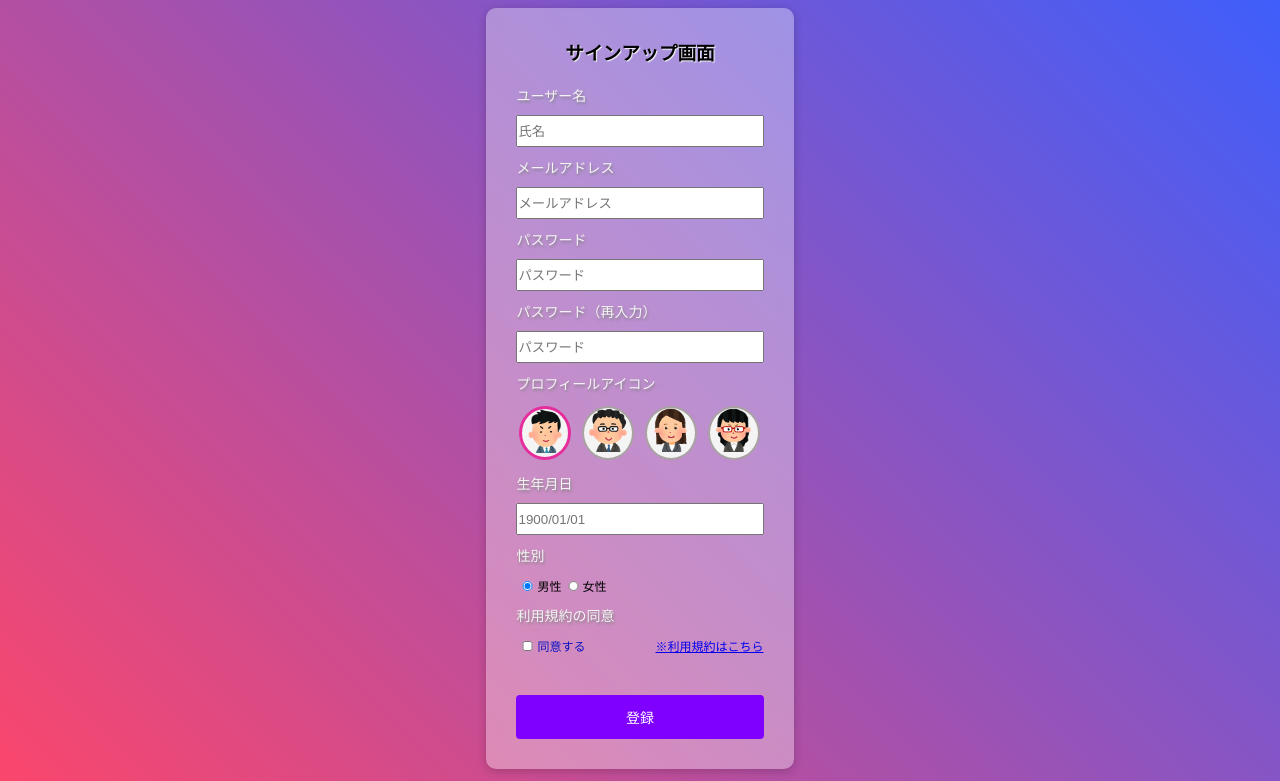
Test: バリデートチェックのテスト › バリデート形式チェック（生年月日）
Type "2001/1/2" into the field labelled "生年月日" at (640, 519), box [516,503,764,535]
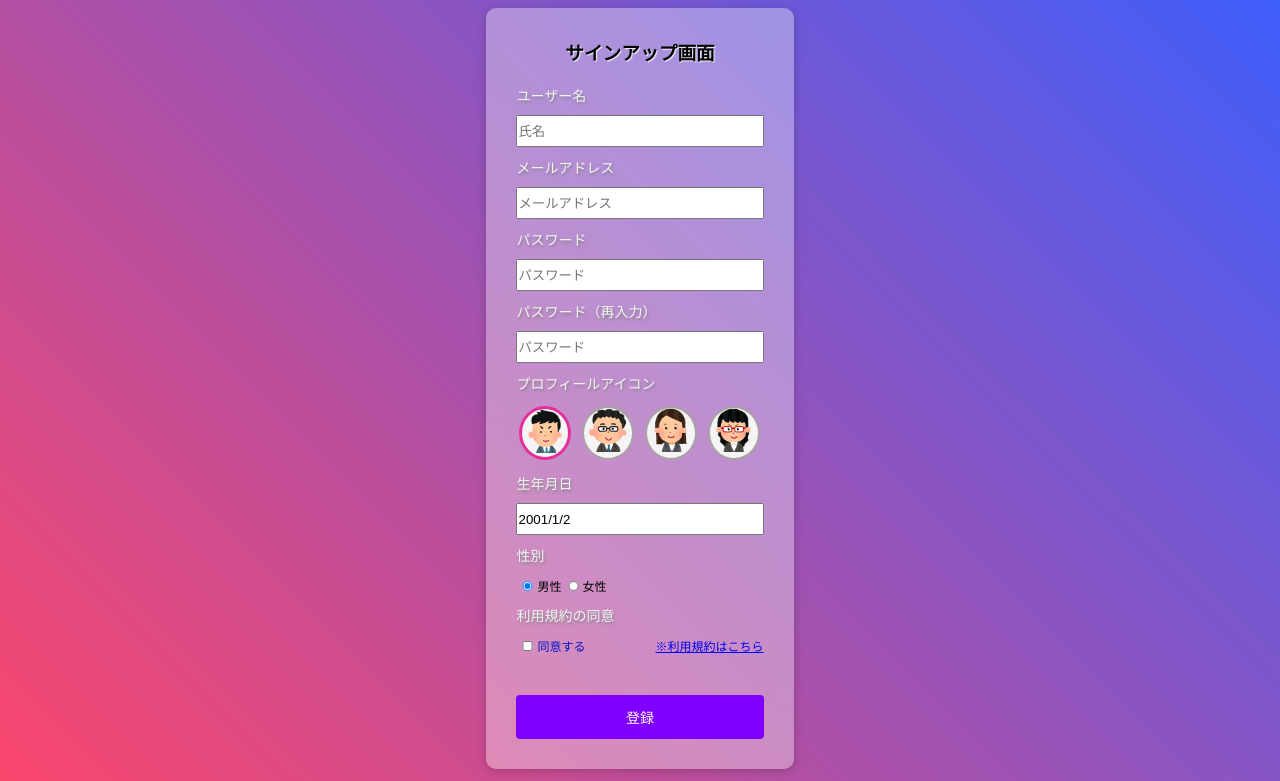
Click the button "登録" at (640, 717), box [516,695,764,739]
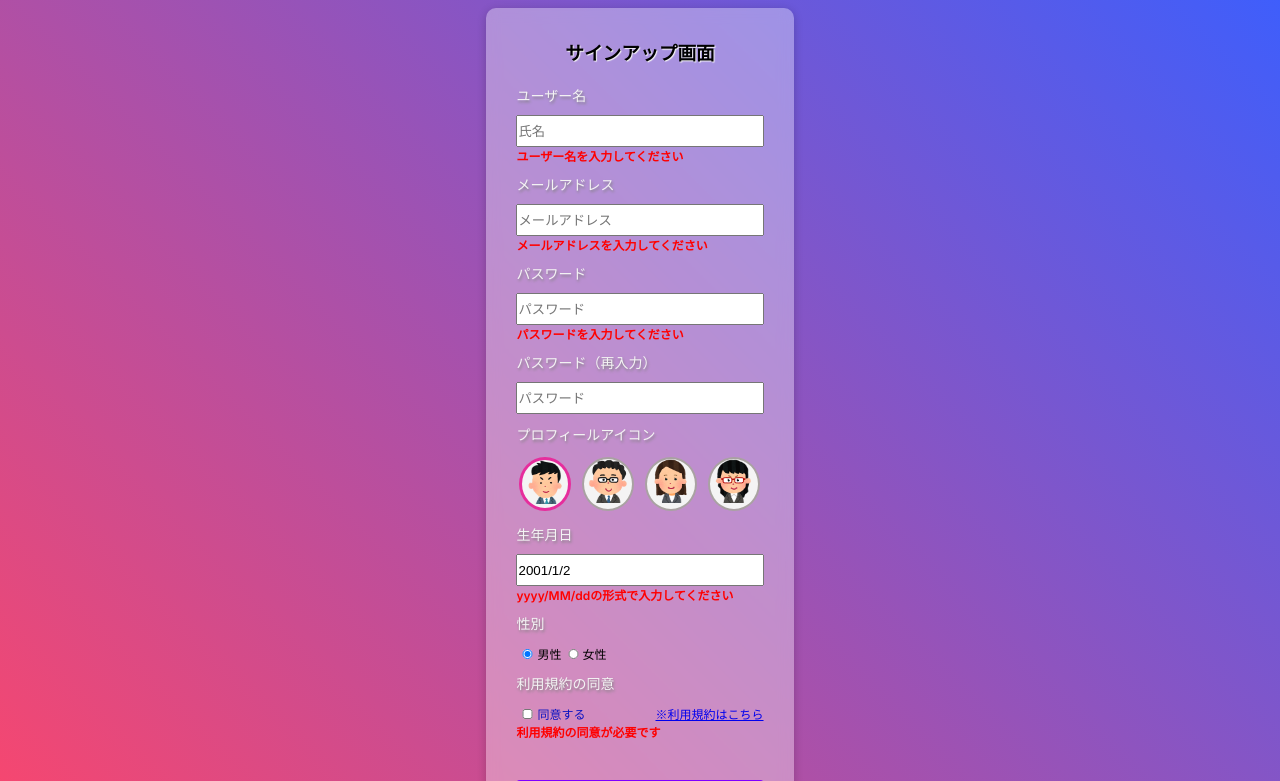
Now the text "yyyy/MM/ddの形式で入力してください" is shown, box [516,586,764,603]
